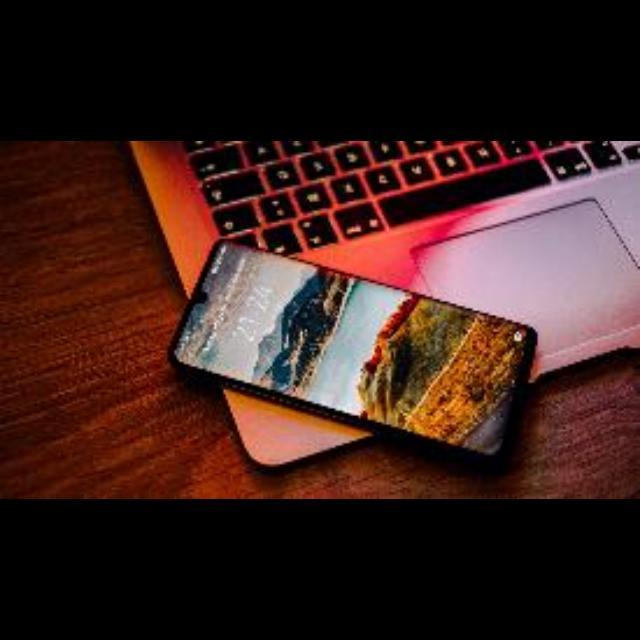Phone: (167, 235, 548, 470)
